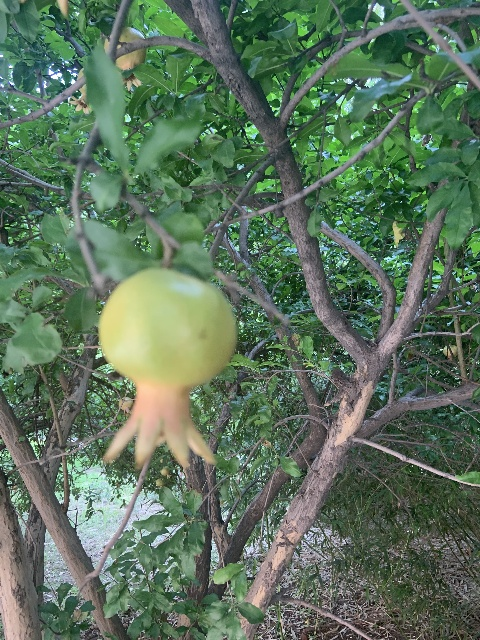mid-growth: (97, 269, 237, 470), (104, 26, 146, 91), (67, 67, 92, 113)
